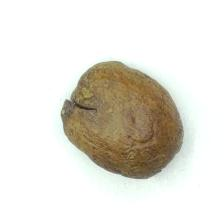NG: (60, 63, 103, 139)
